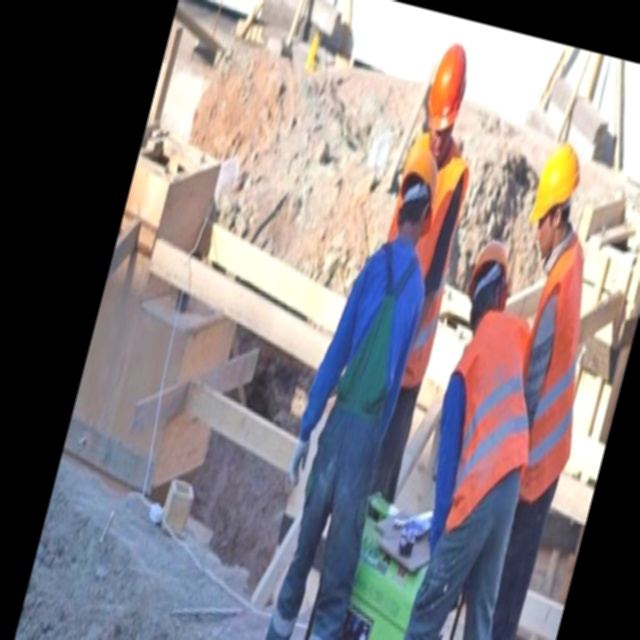Con_Chaleco: (423, 291, 559, 546)
